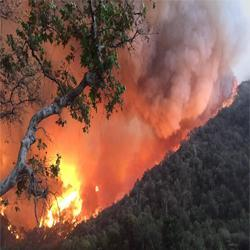fire: (49, 157, 82, 223)
smoke: (132, 3, 225, 93)
